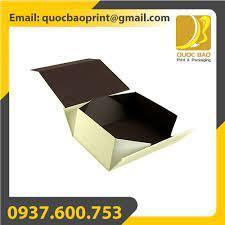box: (30, 58, 193, 172)
